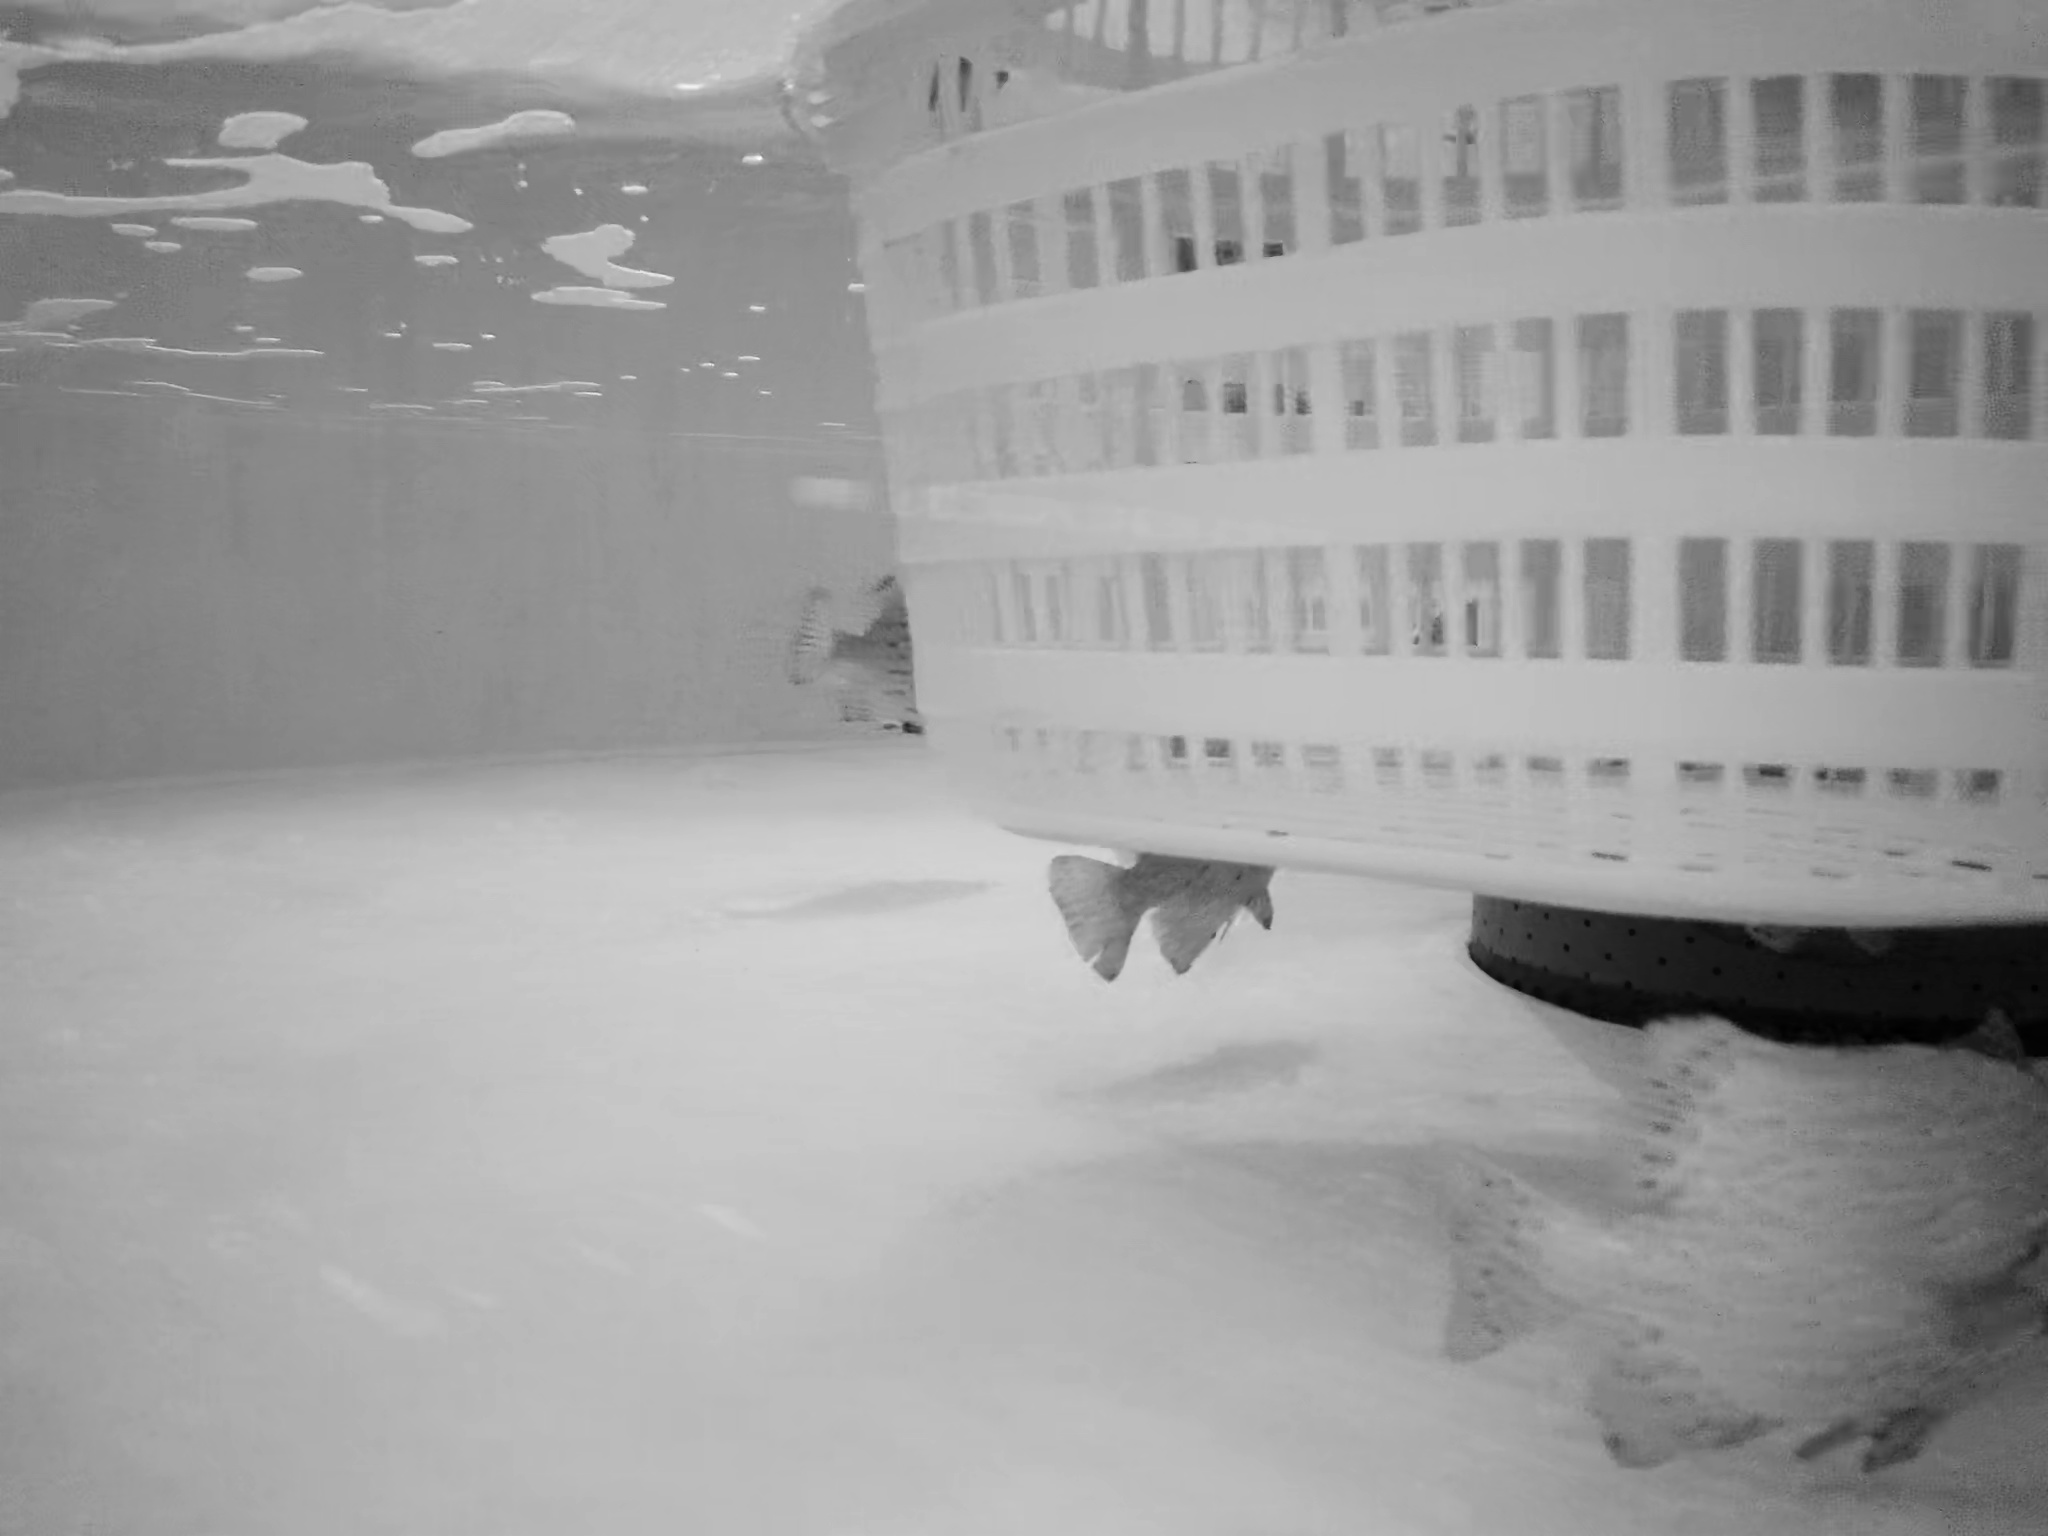fish: (1435, 1136, 2048, 1459), (1613, 1012, 2048, 1273), (784, 565, 1103, 758), (1051, 770, 1292, 978)
